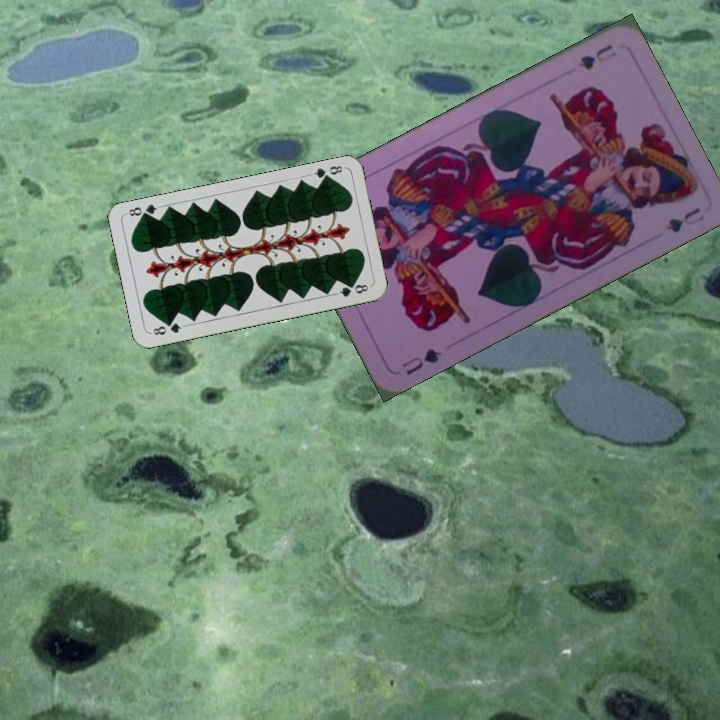G8: (306, 161, 347, 184), (147, 318, 187, 338)
GU: (398, 344, 444, 378), (573, 40, 619, 73)
